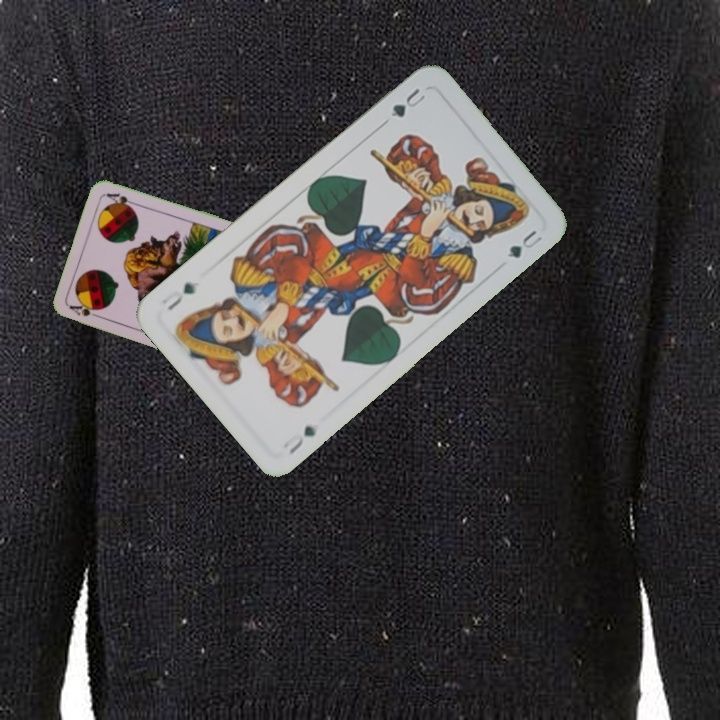GU: (386, 84, 428, 120), (279, 421, 319, 457)
SA: (66, 301, 106, 321)
